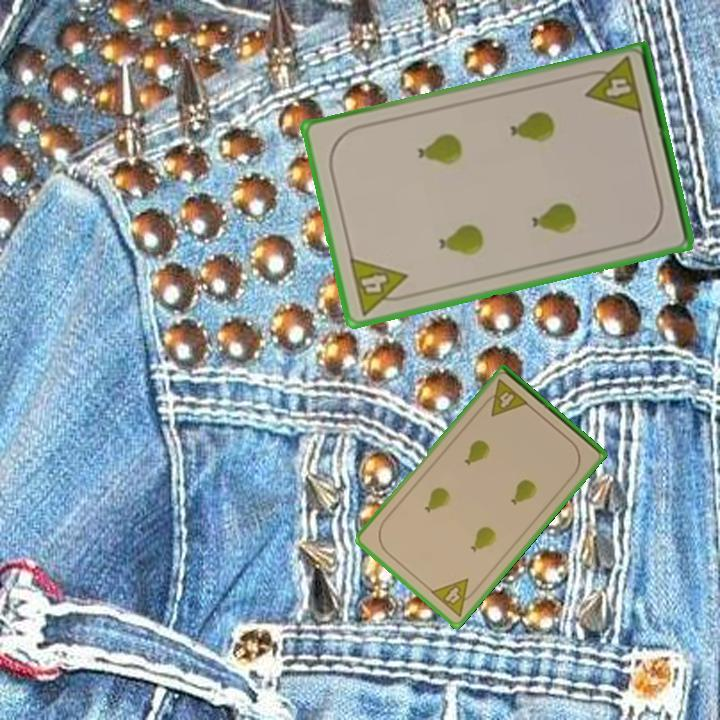4p: (345, 254, 414, 318), (579, 53, 646, 118), (427, 575, 481, 620), (478, 376, 531, 420)
